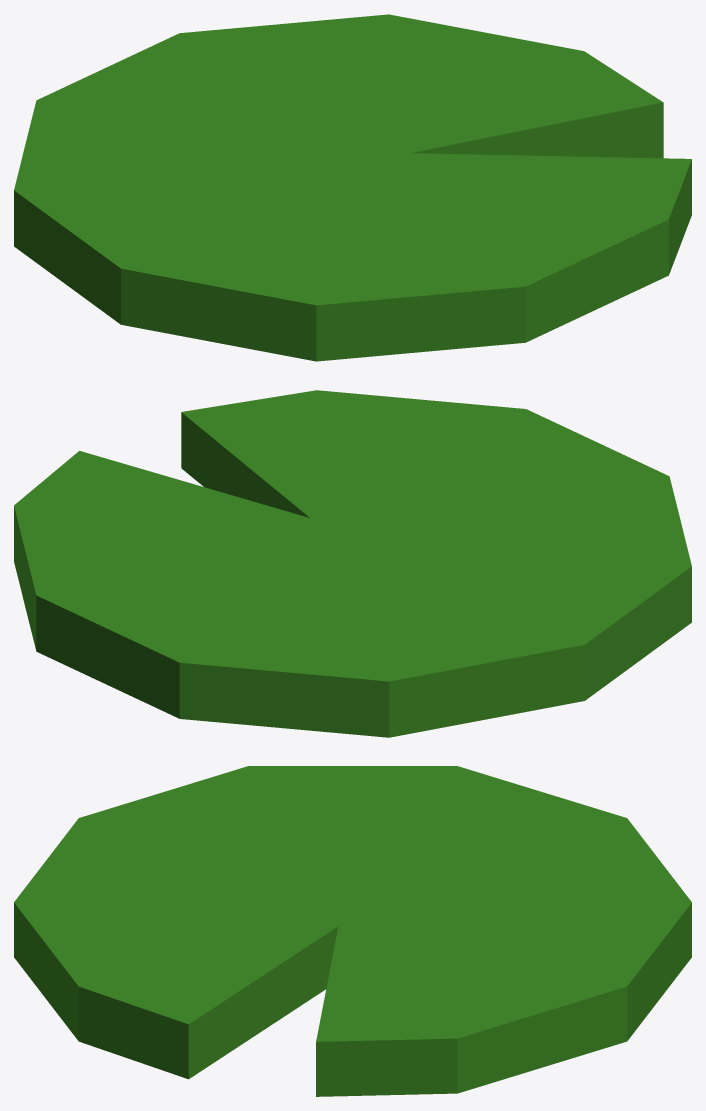
Rendered from WaterLily_DarkGreen_1.fbx.
3 views of the same model, one above another, from view 1: azimuth 30°, elevation 25°; view 2: azimuth 150°, elevation 25°; view 3: azimuth 270°, elevation 25° (orthographic). The views are drawn at different scales.
Parts seen in each view (by area): view 1: WaterLily_DarkGreen (1); view 2: WaterLily_DarkGreen (1); view 3: WaterLily_DarkGreen (1).
Boxes of the visible parts, x1,y1,x2,y2 form: WaterLily_DarkGreen (1): (14,14,691,361); WaterLily_DarkGreen (1): (14,390,691,737); WaterLily_DarkGreen (1): (14,766,691,1096).
Size of the model in its own units: 115 by 10.66 by 119.
